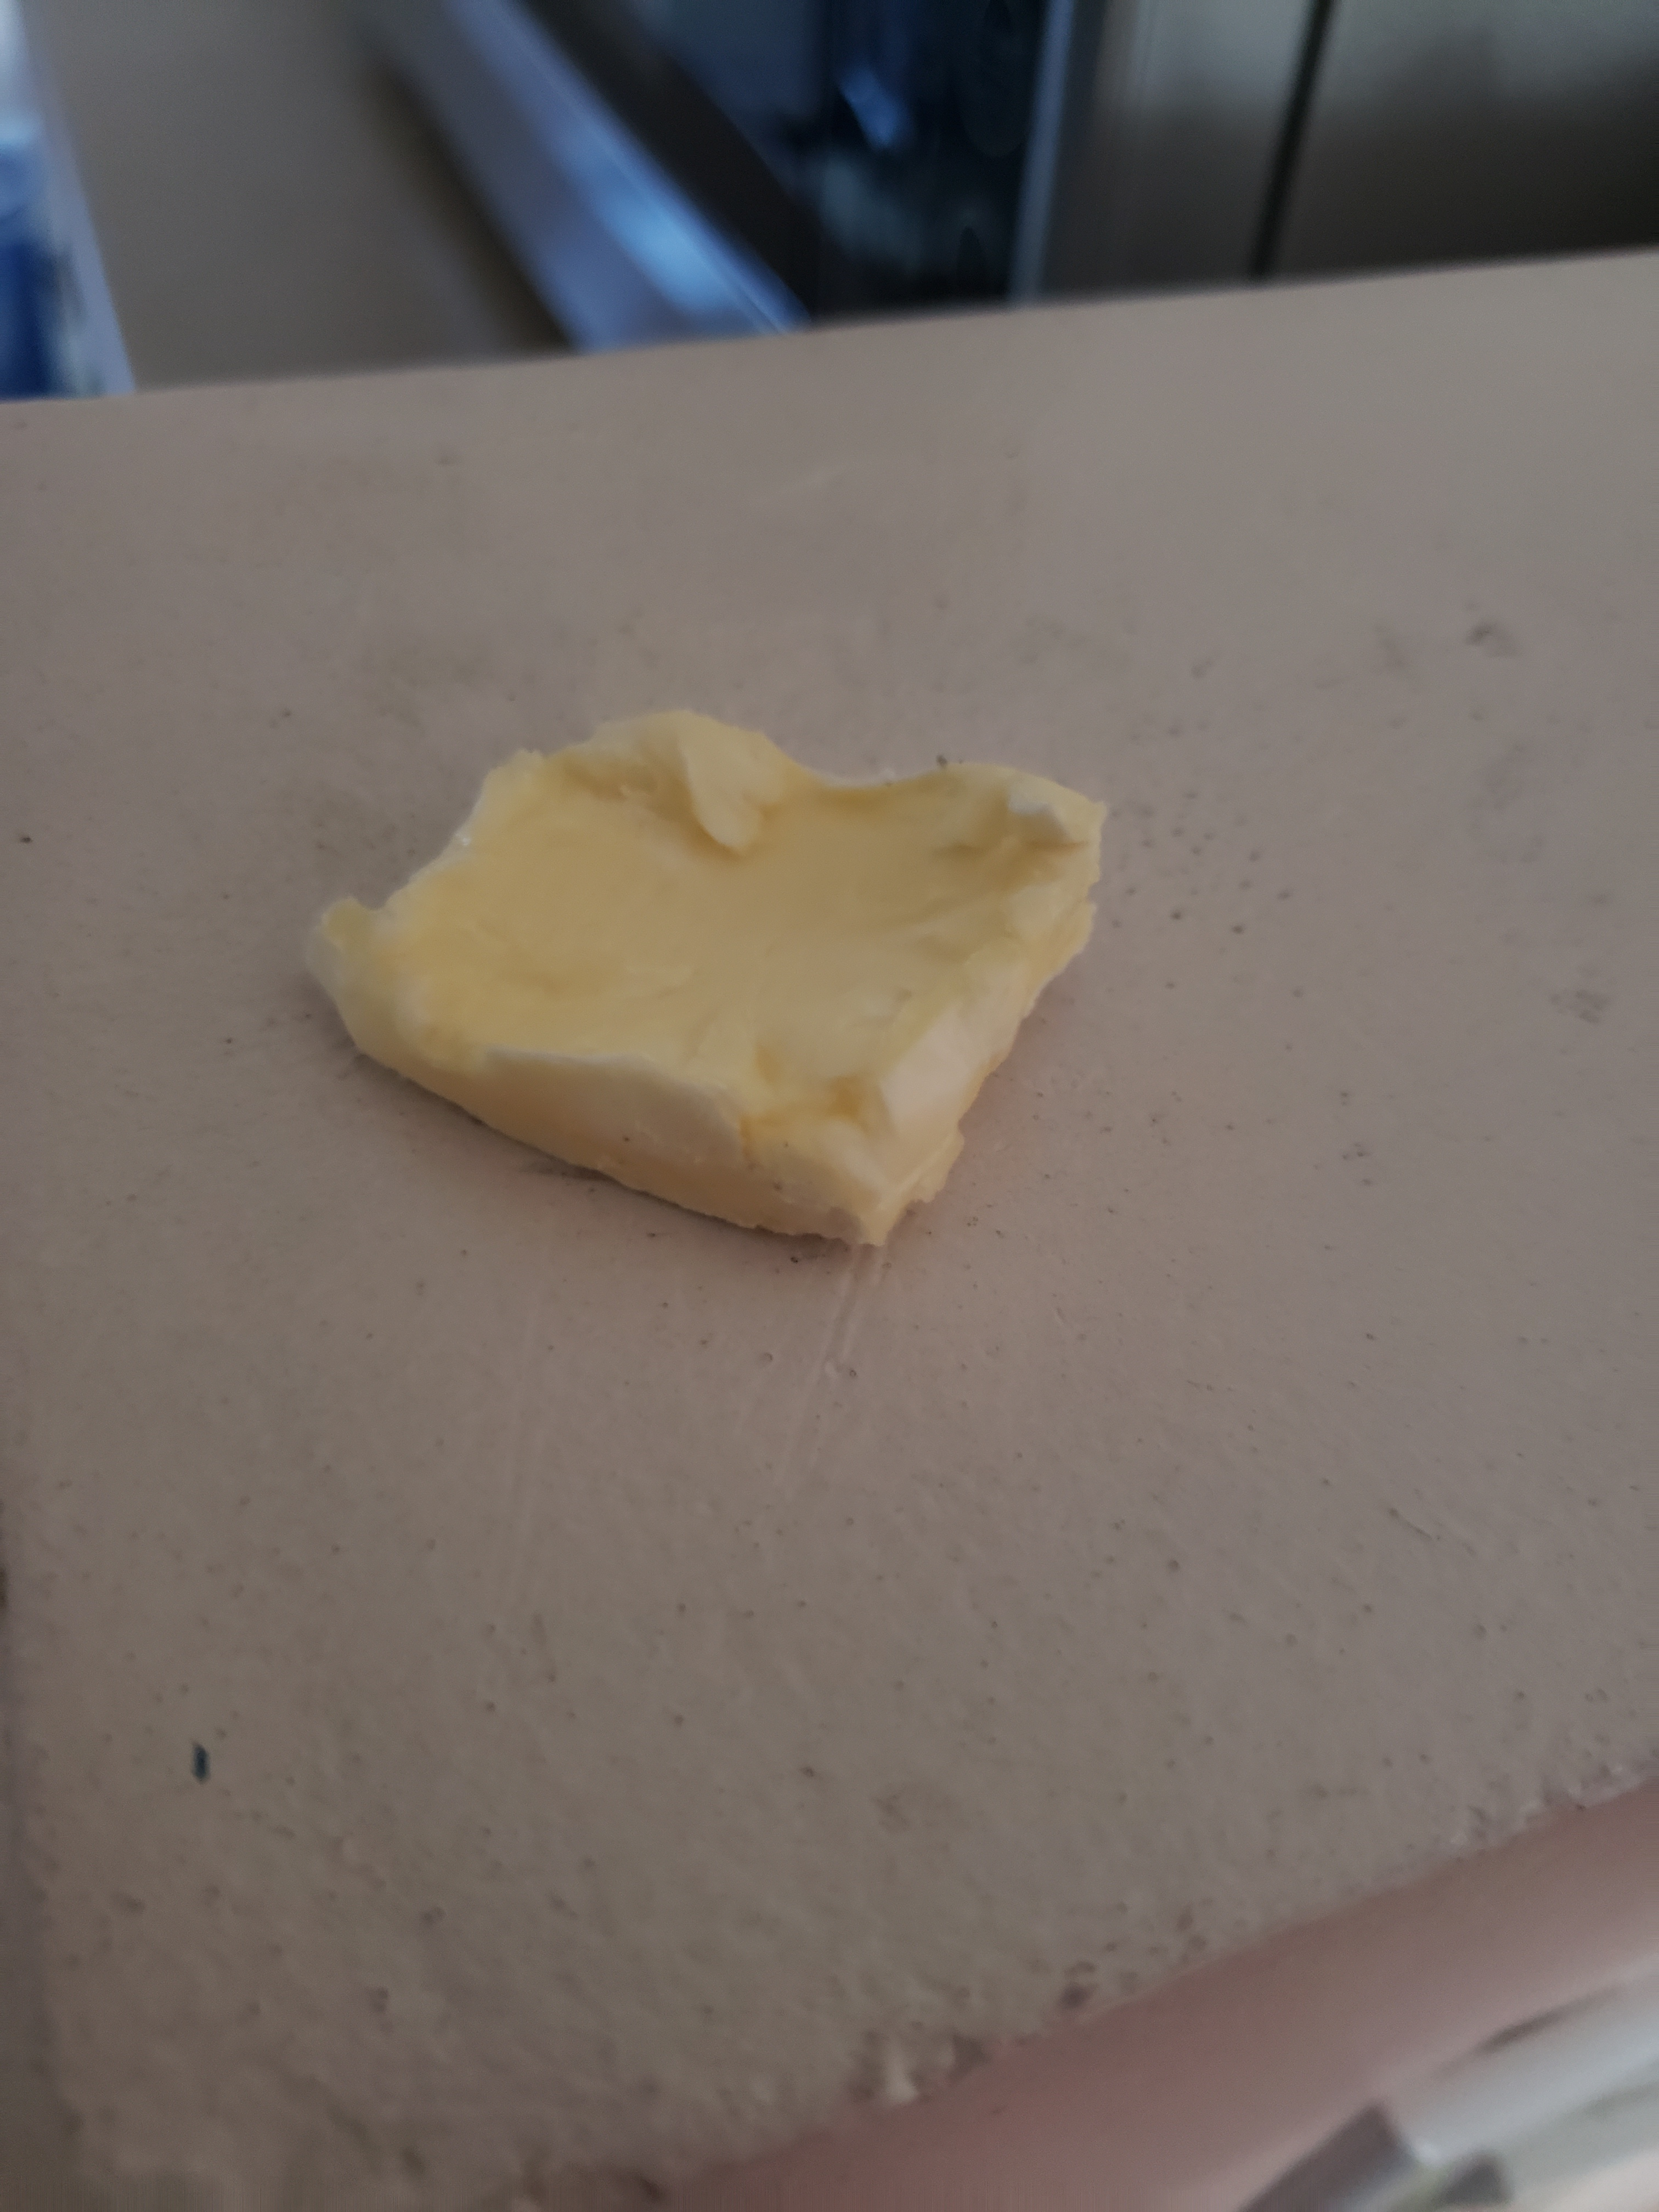Butter: (321, 712, 1105, 1249)
